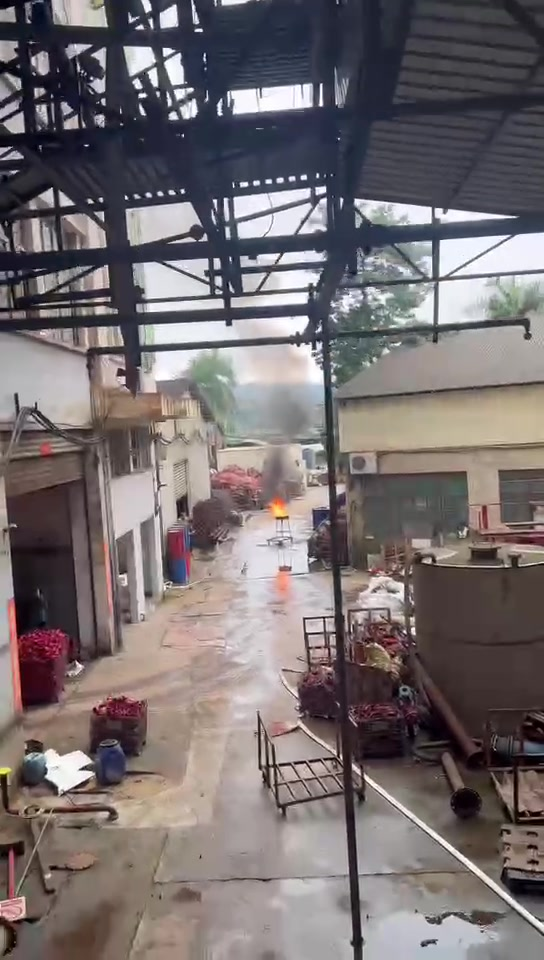fire: (268, 496, 286, 516)
